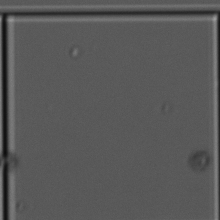Dead Cell: (1, 147, 22, 176), (191, 152, 209, 170)
